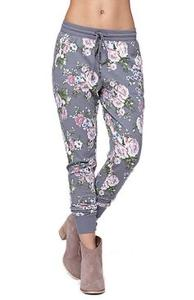C_W_pants: (47, 18, 149, 236)
S_boots: (58, 213, 111, 297)
